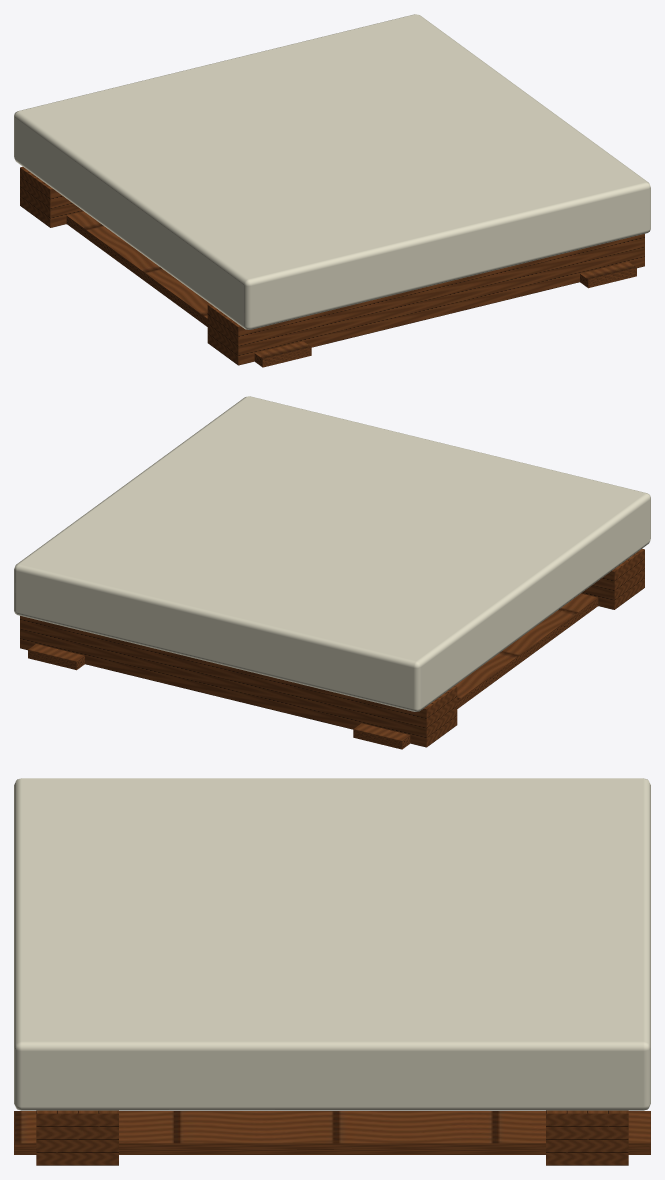
The model's file is modular-survival-base-builder-stove-hearth-30114691__24244.glb.
3 views of the same model, one above another, from view 1: azimuth 30°, elevation 25°; view 2: azimuth 150°, elevation 25°; view 3: azimuth 270°, elevation 25° (orthographic). The views are drawn at different scales.
Visible parts, largest first — view 1: stove-hearth; view 2: stove-hearth; view 3: stove-hearth.
Part boxes in pixels (x1,y1,x2,y2): stove-hearth: (14, 14, 650, 367); stove-hearth: (14, 396, 650, 749); stove-hearth: (14, 778, 650, 1165).
Bounding box in the file's own units: 1 × 0.21 × 1.
Materials: 2 (1 with a texture image).
